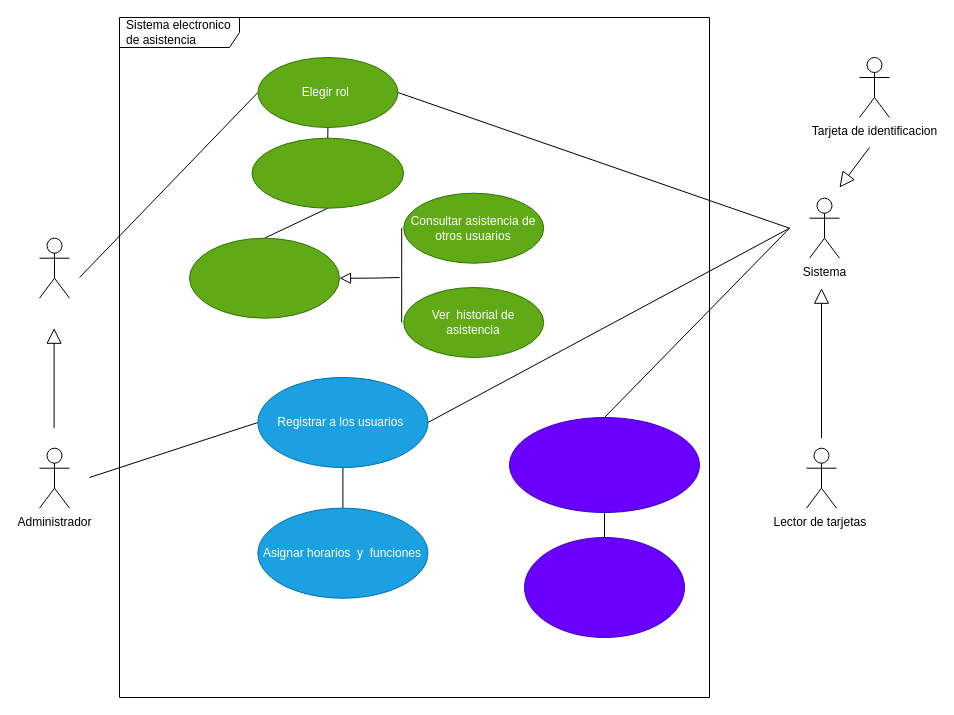
Image size: 954x715. Some labels were removed from this diagram. The centre of each missing label's shape, as x and y in pixels:
Ingresar login y password: point 327,172
Registrar asistencia con fecha y hora correspondiente: point 604,587
Usuario: point 54,267
Verificar la identidad a traves de una tarjeta: point 604,464
Visualizar funciones: point 264,277
